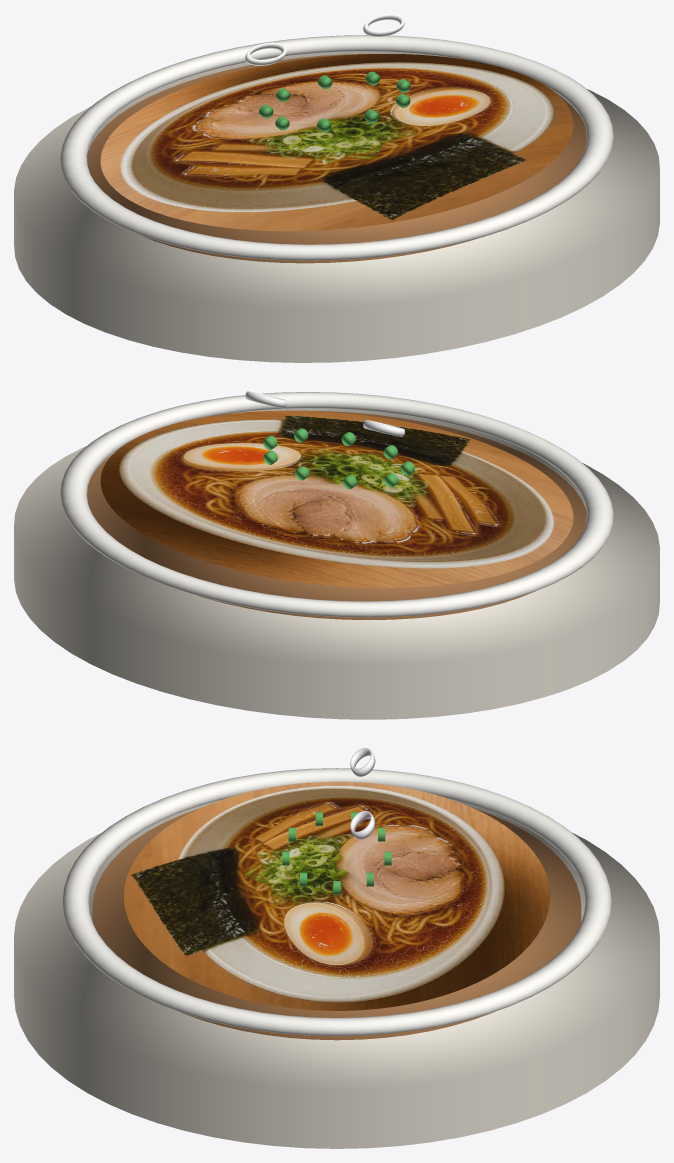
File: shoyu_ramen.glb
3 views of the same model, one above another, from view 1: azimuth 30°, elevation 25°; view 2: azimuth 150°, elevation 25°; view 3: azimuth 270°, elevation 25° (orthographic). The views are drawn at different scales.
Size of the model in its own units: 2.24 by 0.7187 by 2.
6 materials, 1 textured.
